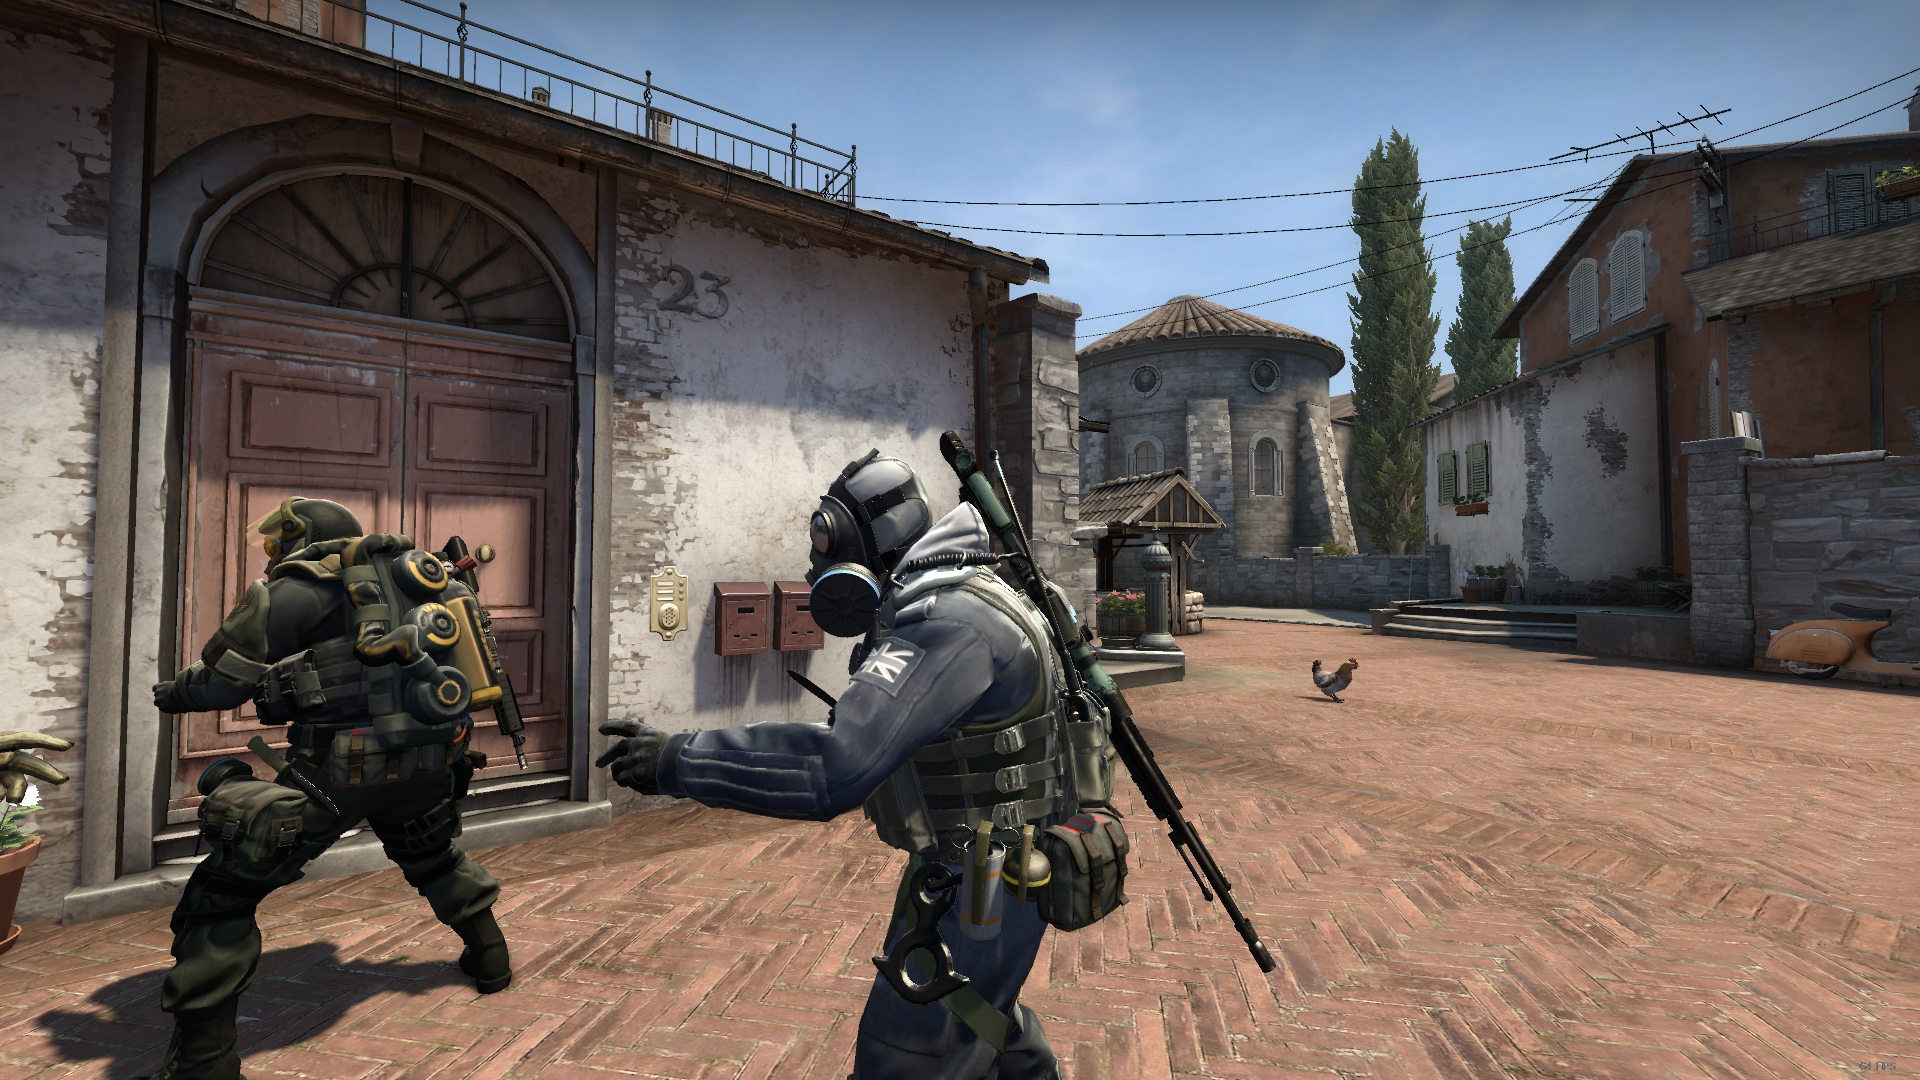ct: (597, 451, 1125, 1080)
